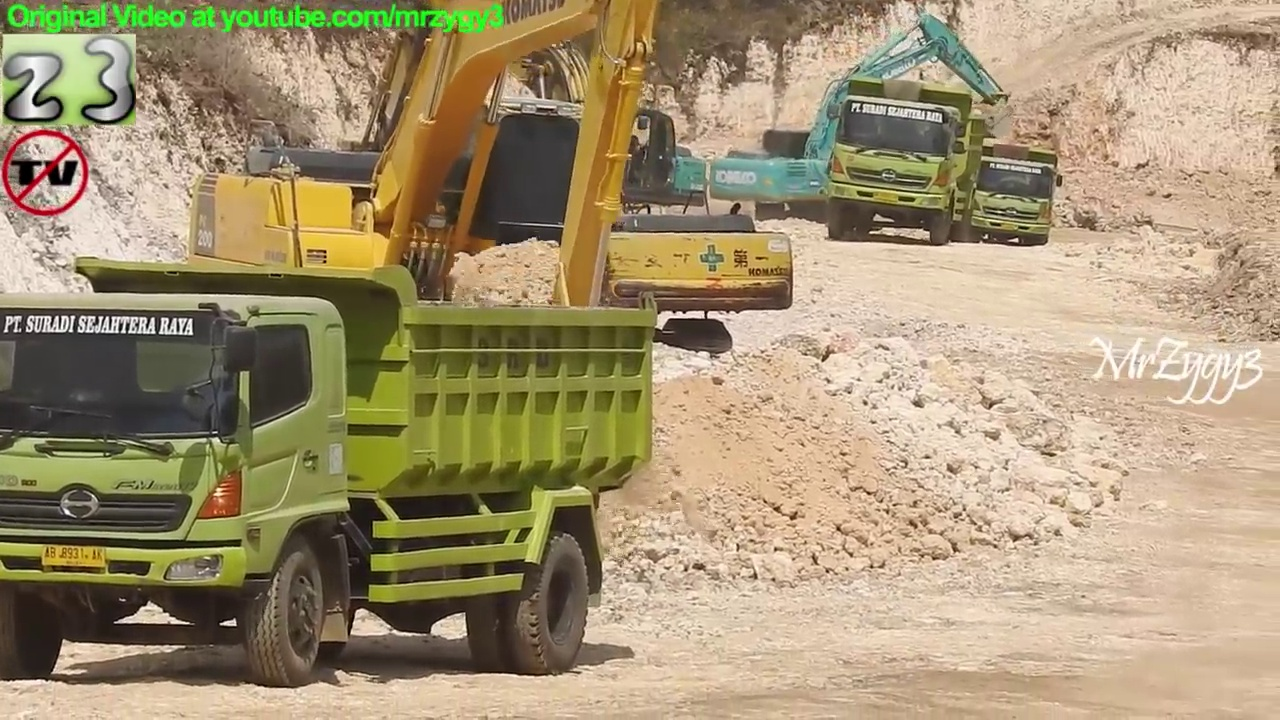excavator: (144, 1, 672, 506), (252, 1, 802, 372), (706, 10, 1017, 233), (464, 1, 716, 250)
truck: (1, 249, 662, 695), (820, 71, 991, 257), (943, 134, 1069, 251)
